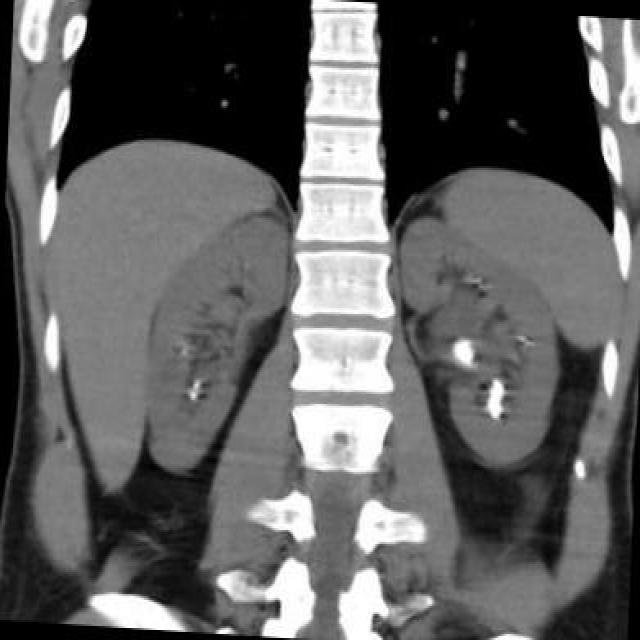Tas_Var: (483, 375, 507, 431), (454, 337, 479, 369), (185, 389, 201, 403), (190, 375, 200, 387), (178, 343, 186, 357)
